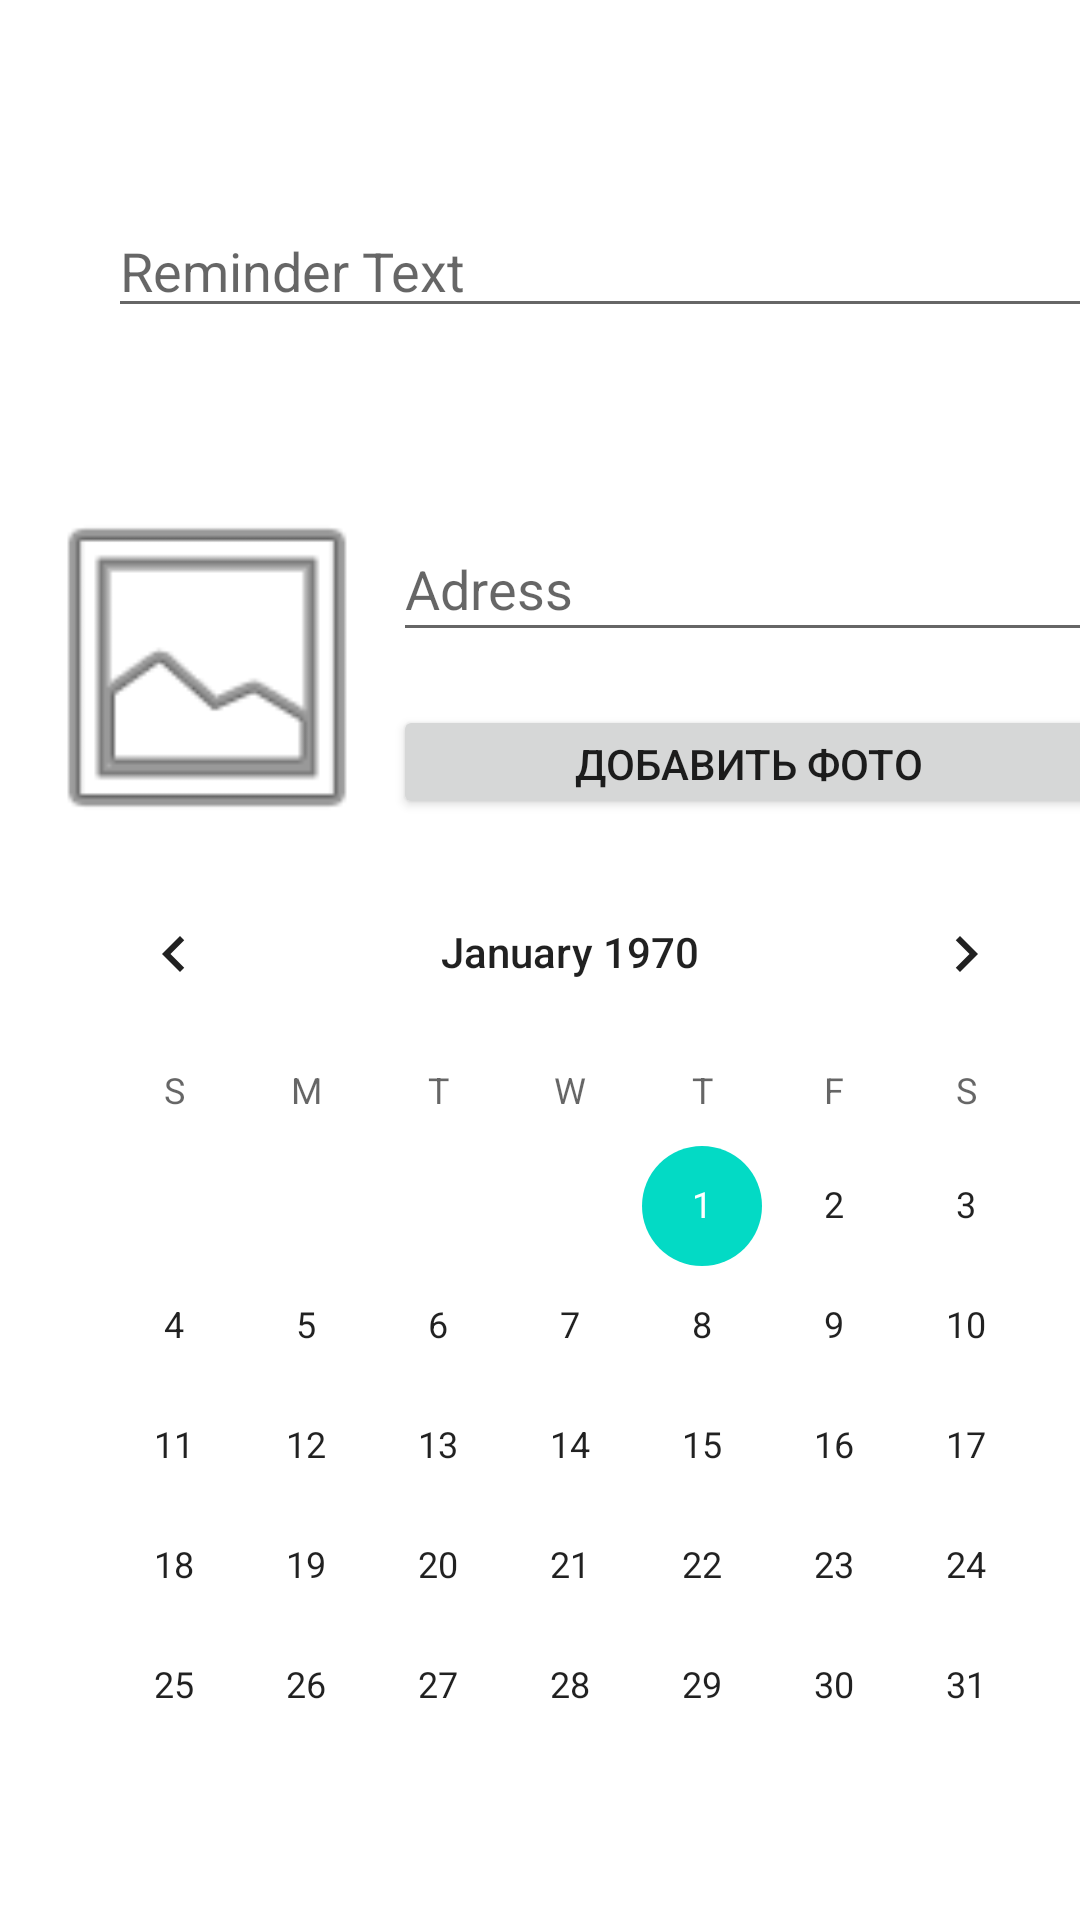

Screen size 1080×1920. Icon name, then its center in pixels as (x,y):
gallery: (207,667)
